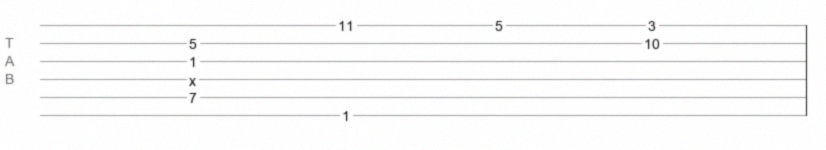1: (189, 54, 197, 64), (342, 108, 350, 118)
10: (644, 36, 660, 46)
11: (338, 18, 354, 28)
3: (648, 18, 656, 28)
5: (189, 36, 197, 46), (495, 18, 503, 28)
7: (189, 90, 197, 100)
x: (189, 73, 196, 81)
